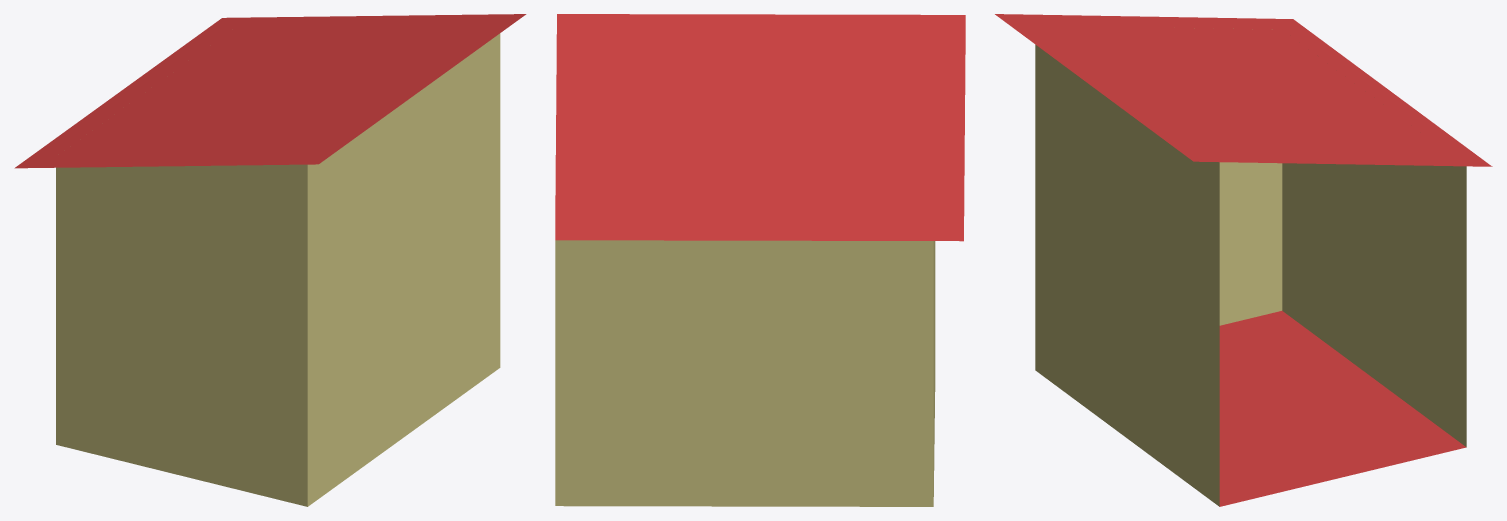
3 views of the same model, side by side, from view 1: azimuth 30°, elevation 25°; view 2: azimuth 150°, elevation 25°; view 3: azimuth 270°, elevation 25° (orthographic). The views are drawn at different scales.
Size of the model in its own units: 8.69 by 8.32 by 6.48.
